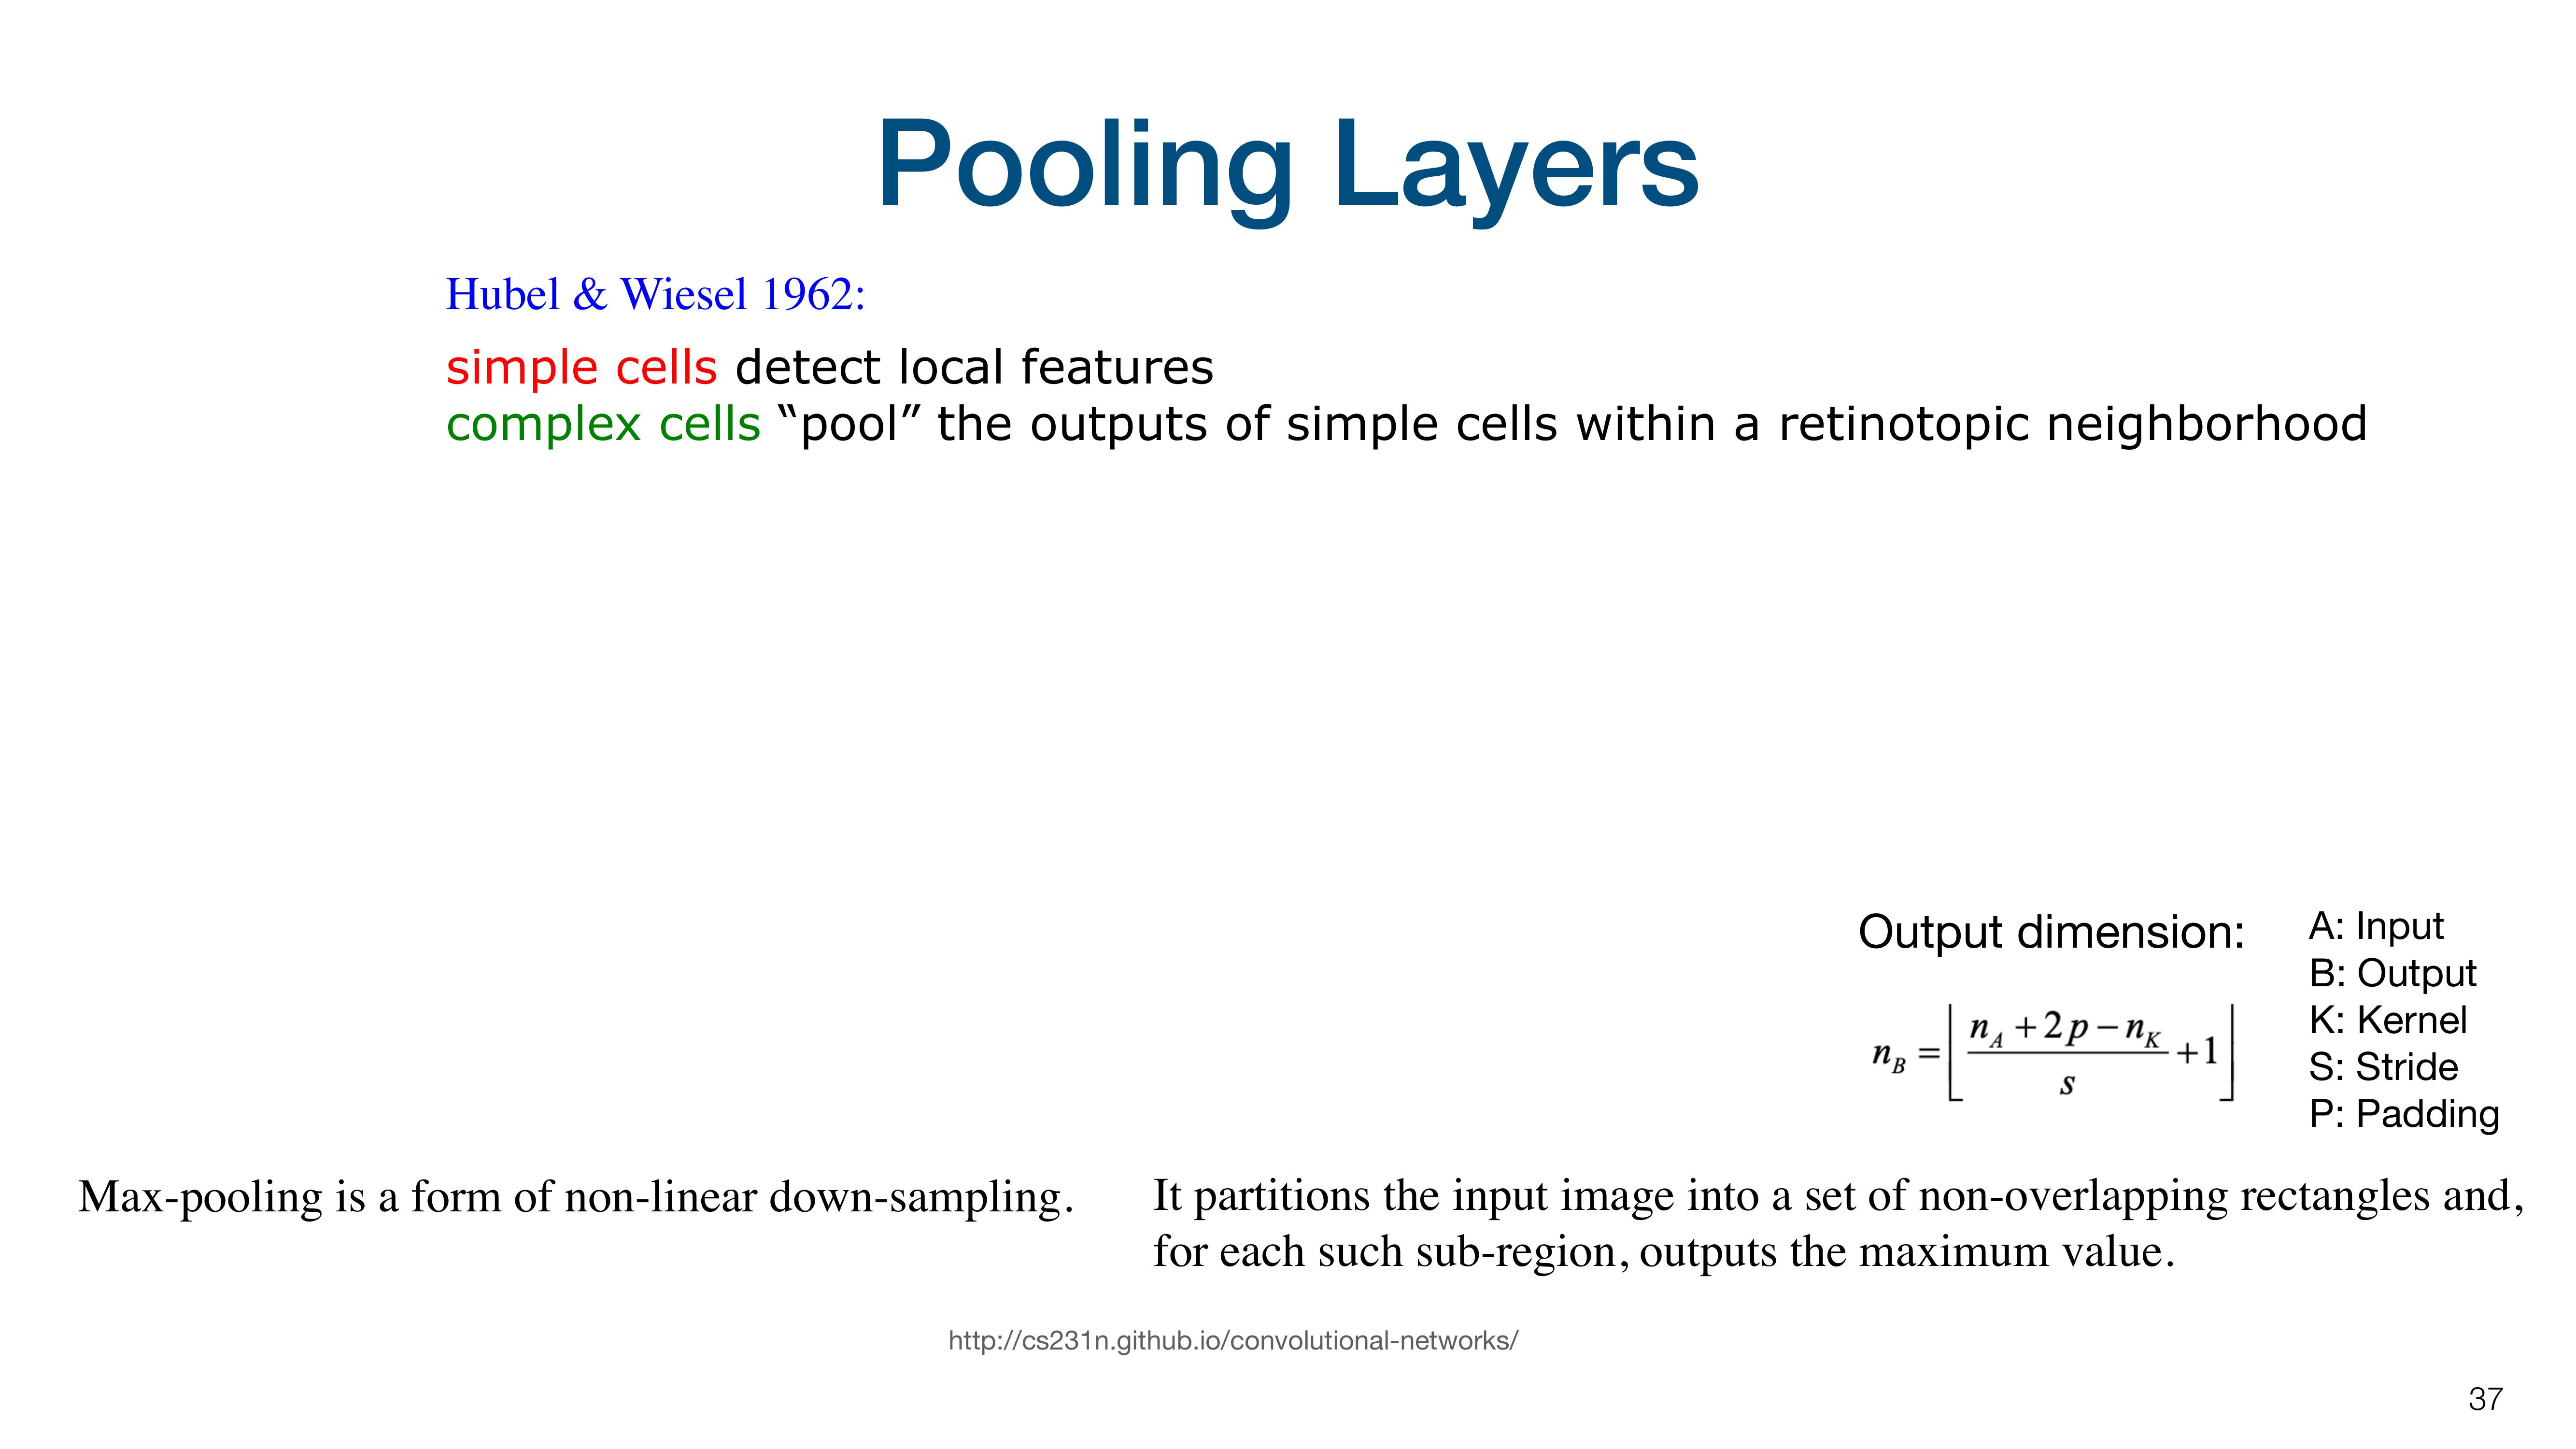Title: (846, 103, 1709, 249)
